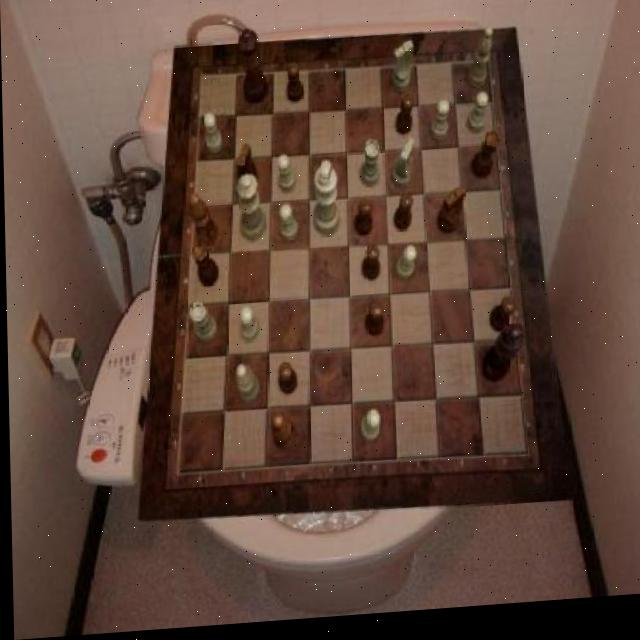bishop: (188, 195, 216, 251), (269, 416, 294, 455)
black-bishop: (480, 332, 524, 392)
black-king: (436, 192, 464, 241), (237, 148, 258, 197)
black-knight: (489, 304, 514, 340), (391, 200, 412, 238), (394, 101, 413, 142), (286, 67, 303, 108), (276, 366, 296, 400), (360, 251, 378, 288), (353, 205, 371, 242), (364, 306, 383, 341)
black-pawn: (238, 31, 268, 108)
black-queen: (470, 139, 501, 187), (190, 243, 217, 290)
black-rook: (466, 35, 494, 98), (234, 367, 259, 408)
white-bishop: (311, 165, 339, 243)
white-king: (391, 46, 415, 99), (390, 144, 414, 196)
white-knight: (467, 99, 490, 140), (430, 108, 451, 149), (394, 251, 417, 287), (204, 115, 223, 158), (278, 208, 298, 246), (238, 310, 258, 347), (277, 158, 295, 197), (359, 415, 379, 449)
white-pawn: (236, 177, 264, 246)
white-queen: (189, 305, 217, 346), (360, 146, 381, 193)
